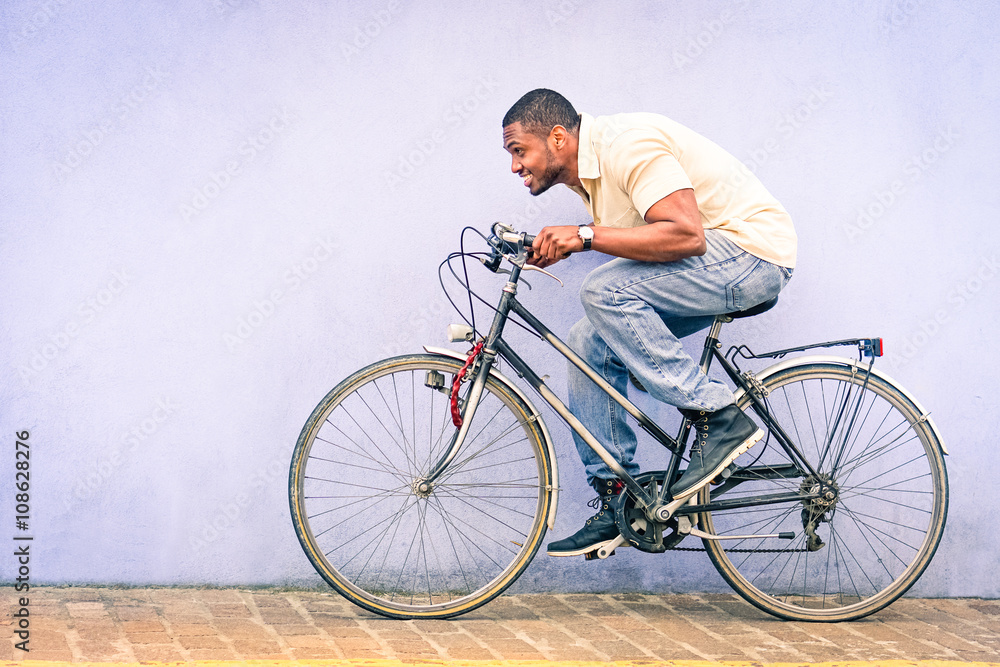bike: (279, 217, 955, 624)
person: (487, 85, 801, 562)
